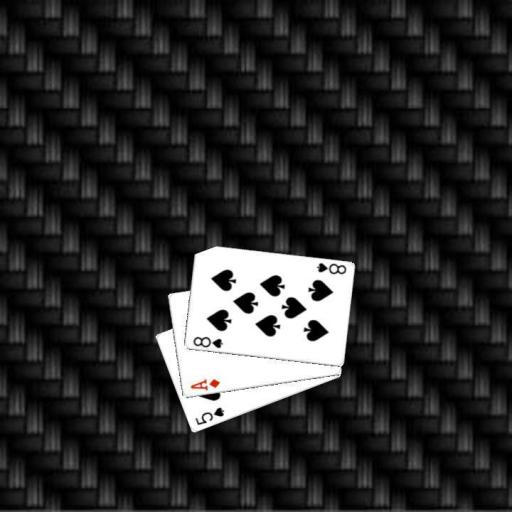card-corner: (192, 404, 225, 427), (190, 333, 224, 350), (314, 259, 347, 276), (187, 376, 221, 392)
